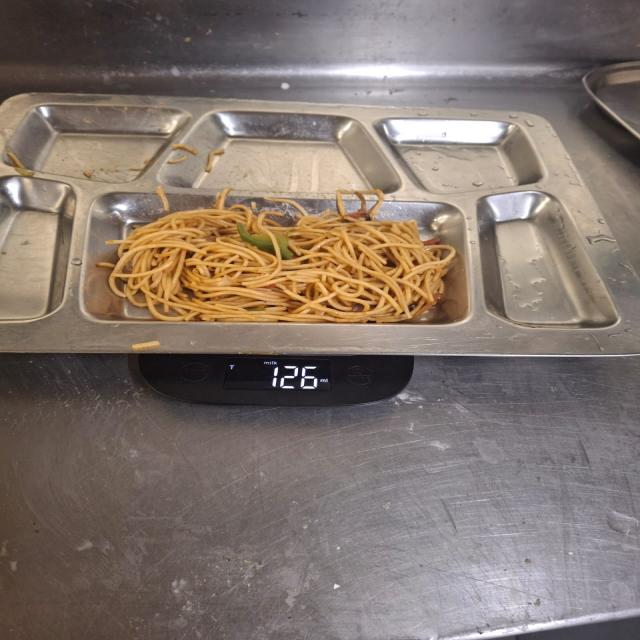Noodles: (123, 226, 445, 318)
